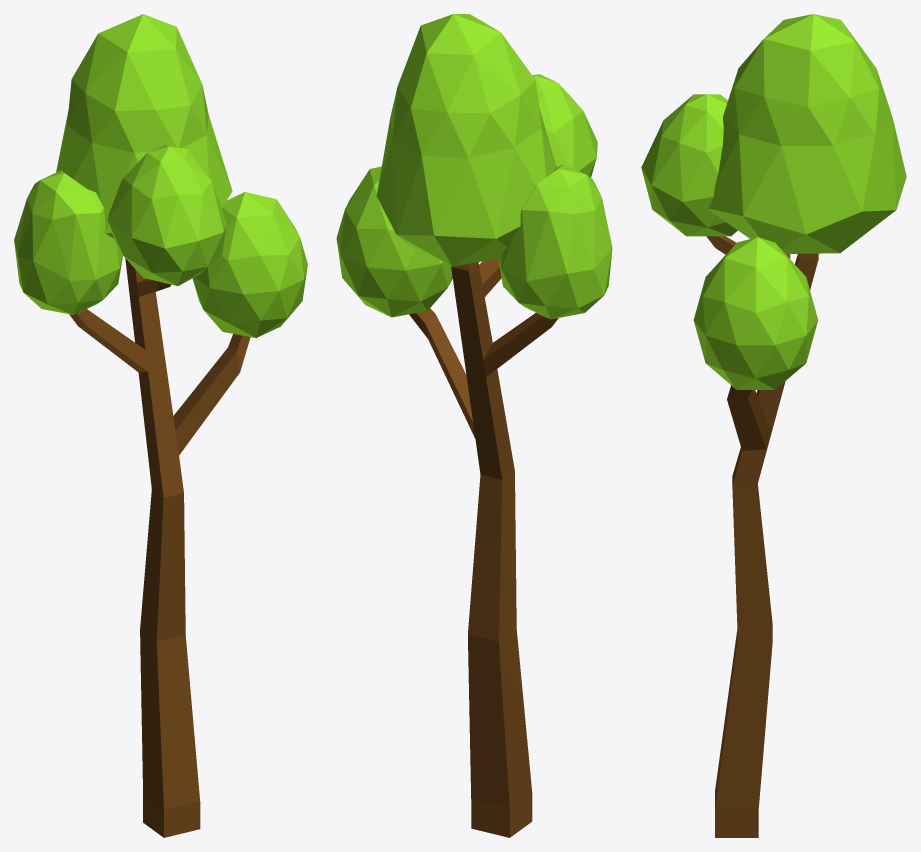
Rendered from T_tree5.fbx.
3 views of the same model, side by side, from view 1: azimuth 30°, elevation 25°; view 2: azimuth 150°, elevation 25°; view 3: azimuth 270°, elevation 25° (orthographic). The views are drawn at different scales.
Visible parts, largest first — view 1: Icosphere.001; view 2: Icosphere.001; view 3: Icosphere.001.
Part boxes in pixels (left/top/right/bottom): Icosphere.001: left=14, top=14, right=307, bottom=837; Icosphere.001: left=336, top=14, right=612, bottom=837; Icosphere.001: left=641, top=14, right=906, bottom=837.
Bounding box in the file's own units: 433 × 1255 × 369.
